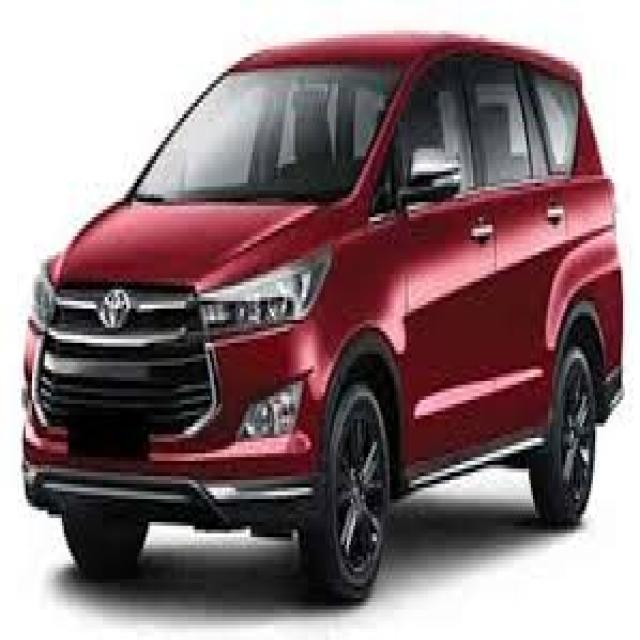light_vehicle: (21, 31, 624, 610)
